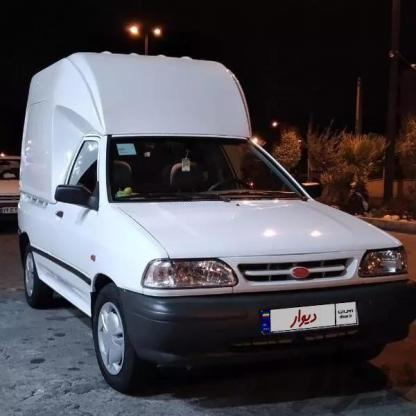Car: (0, 44, 416, 368), (0, 151, 30, 223)
